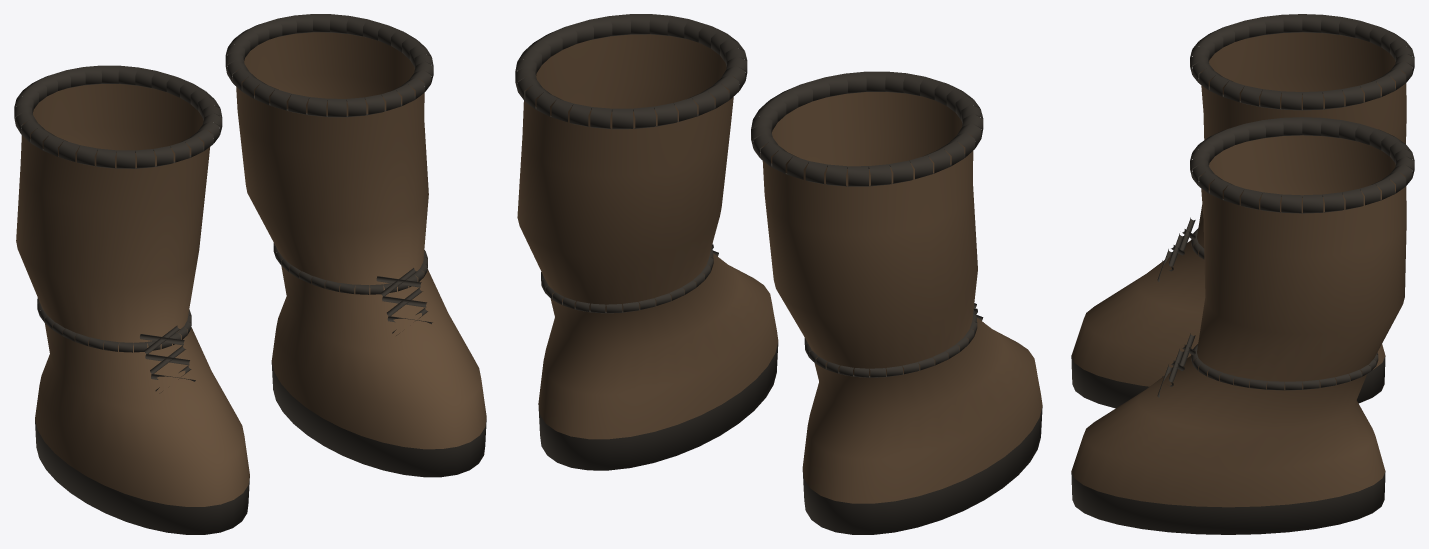
3 views of the same model, side by side, from view 1: azimuth 30°, elevation 25°; view 2: azimuth 150°, elevation 25°; view 3: azimuth 270°, elevation 25° (orthographic). The views are drawn at different scales.
Parts seen in each view (by area): view 1: Trail_Boots; view 2: Trail_Boots; view 3: Trail_Boots.
Boxes of the visible parts, x1=… form: Trail_Boots: x1=14, y1=14, x2=486, y2=534; Trail_Boots: x1=515, y1=14, x2=1042, y2=534; Trail_Boots: x1=1071, y1=14, x2=1414, y2=534.
Bounding box in the file's own units: 0.4831 × 0.403 × 0.3715.
